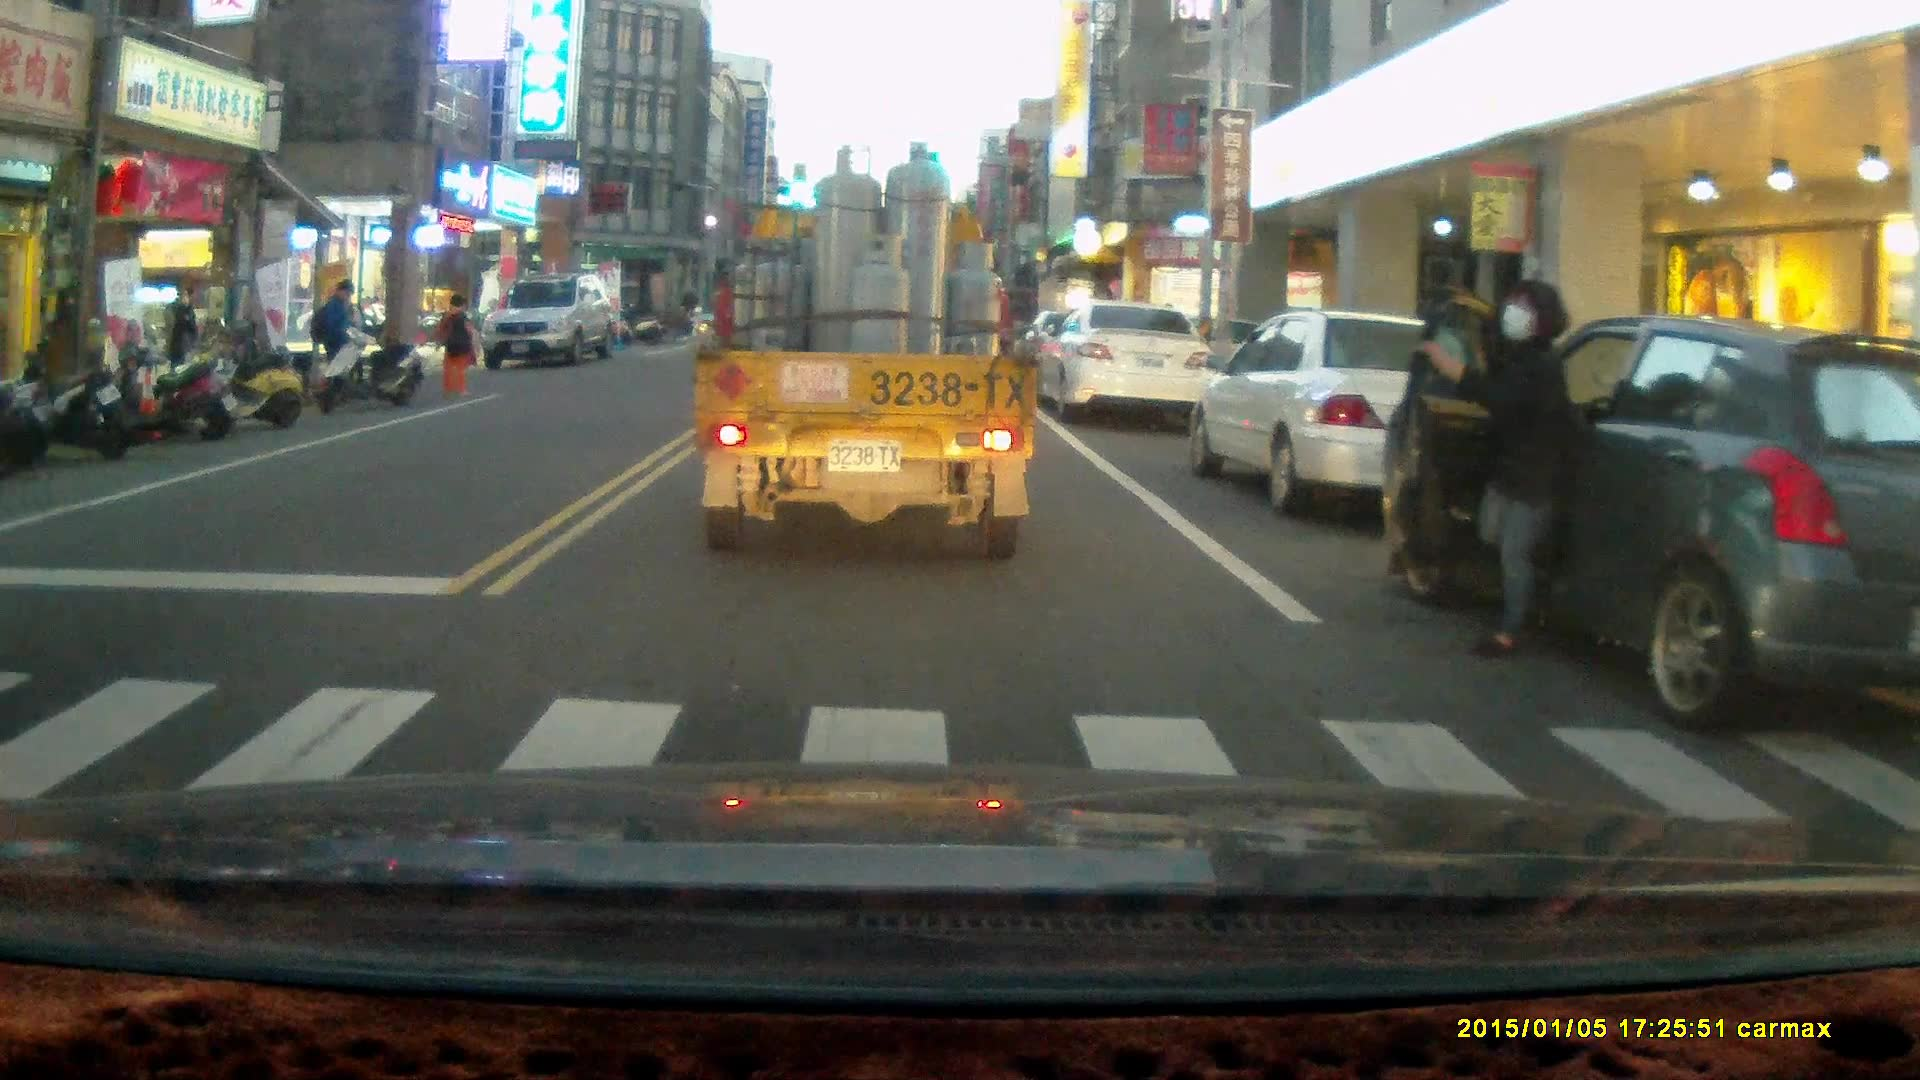pedestrian: (1421, 278, 1584, 664), (309, 278, 356, 399), (162, 285, 201, 406), (431, 291, 473, 394)
vehicle: (1393, 318, 1920, 725), (690, 137, 1045, 564), (1198, 314, 1542, 520), (1045, 302, 1225, 426), (482, 281, 619, 372)
